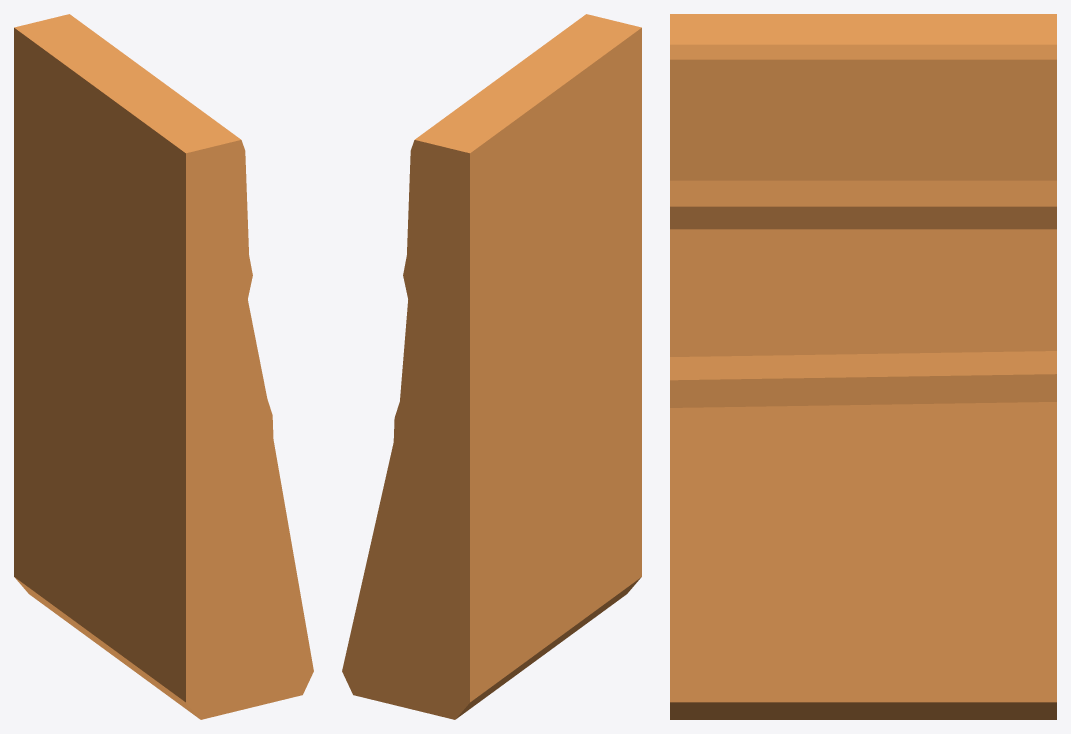
File: HandL.fbx
3 renders of one model, left to right at view 1: azimuth 30°, elevation 25°; view 2: azimuth 150°, elevation 25°; view 3: azimuth 270°, elevation 25°, orthographic. The views are drawn at different scales.
Visible parts, largest first — view 1: HandL; view 2: HandL; view 3: HandL.
Boxes of the visible parts, left/top/right/bottom form: HandL: left=14, top=14, right=313, bottom=719; HandL: left=342, top=14, right=641, bottom=719; HandL: left=670, top=14, right=1056, bottom=719.
Size of the model in its own units: 290 by 1235 by 675.
